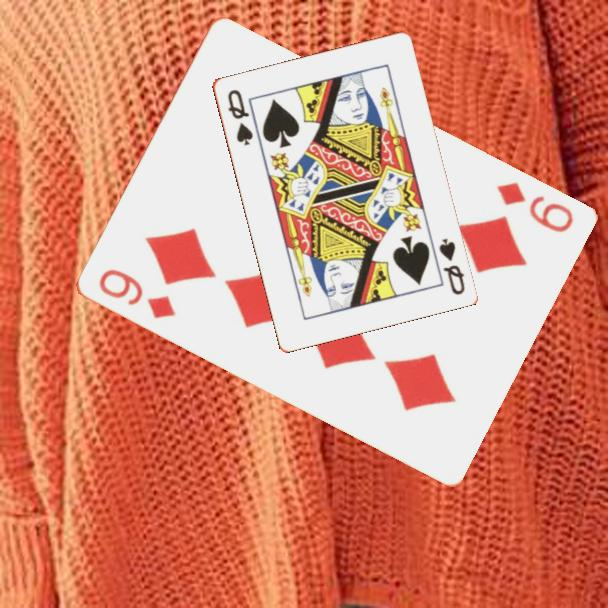d09: (492, 178, 576, 236), (94, 265, 178, 322)
s12: (435, 234, 467, 297), (224, 86, 256, 148)
